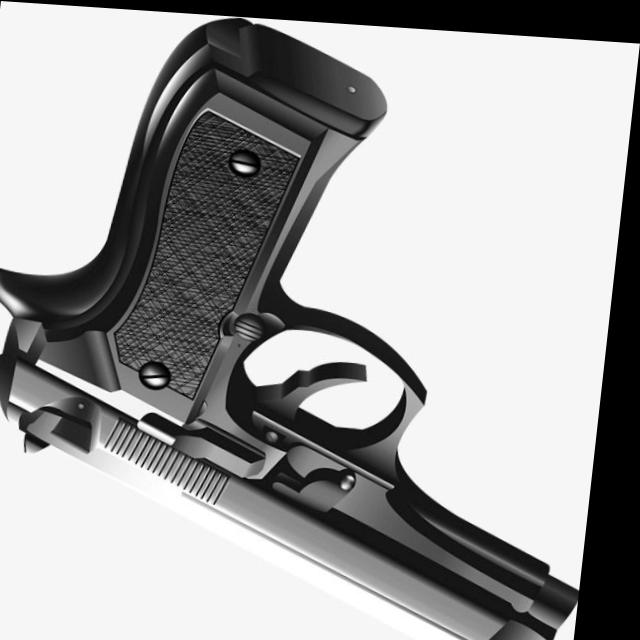handgun: (0, 1, 640, 640)
